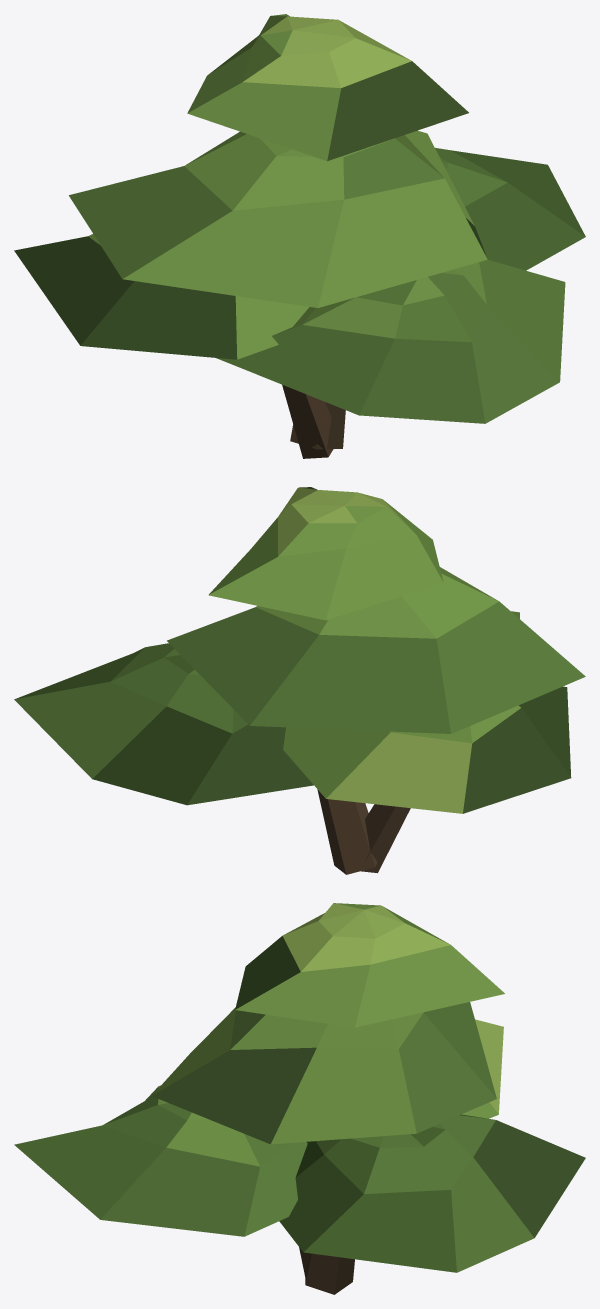
The model's file is bush-b.glb.
3 renders of one model, top to bottom at view 1: azimuth 30°, elevation 25°; view 2: azimuth 150°, elevation 25°; view 3: azimuth 270°, elevation 25°, orthographic. The views are drawn at different scales.
Visible parts, largest first — view 1: Bush_B; view 2: Bush_B; view 3: Bush_B.
Part boxes in pixels (box(x1,y1,x2,y2)): Bush_B: box(14, 14, 585, 458); Bush_B: box(14, 487, 585, 874); Bush_B: box(14, 903, 585, 1294).
Bounding box in the file's own units: 1.2 × 0.8759 × 1.21.
Materials: 1 (1 with a texture image).
